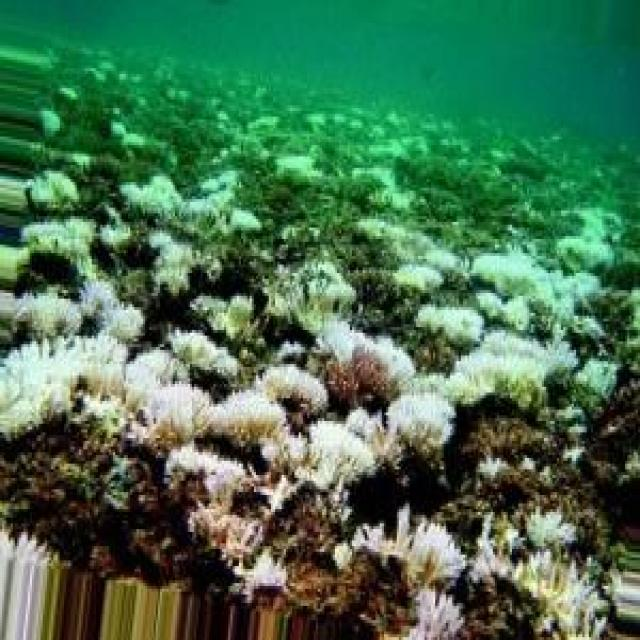bleached coral: (469, 253, 604, 333), (0, 347, 124, 427), (128, 384, 277, 447), (329, 338, 459, 410), (442, 333, 557, 404), (277, 256, 356, 336), (286, 424, 378, 489), (26, 219, 96, 276)
